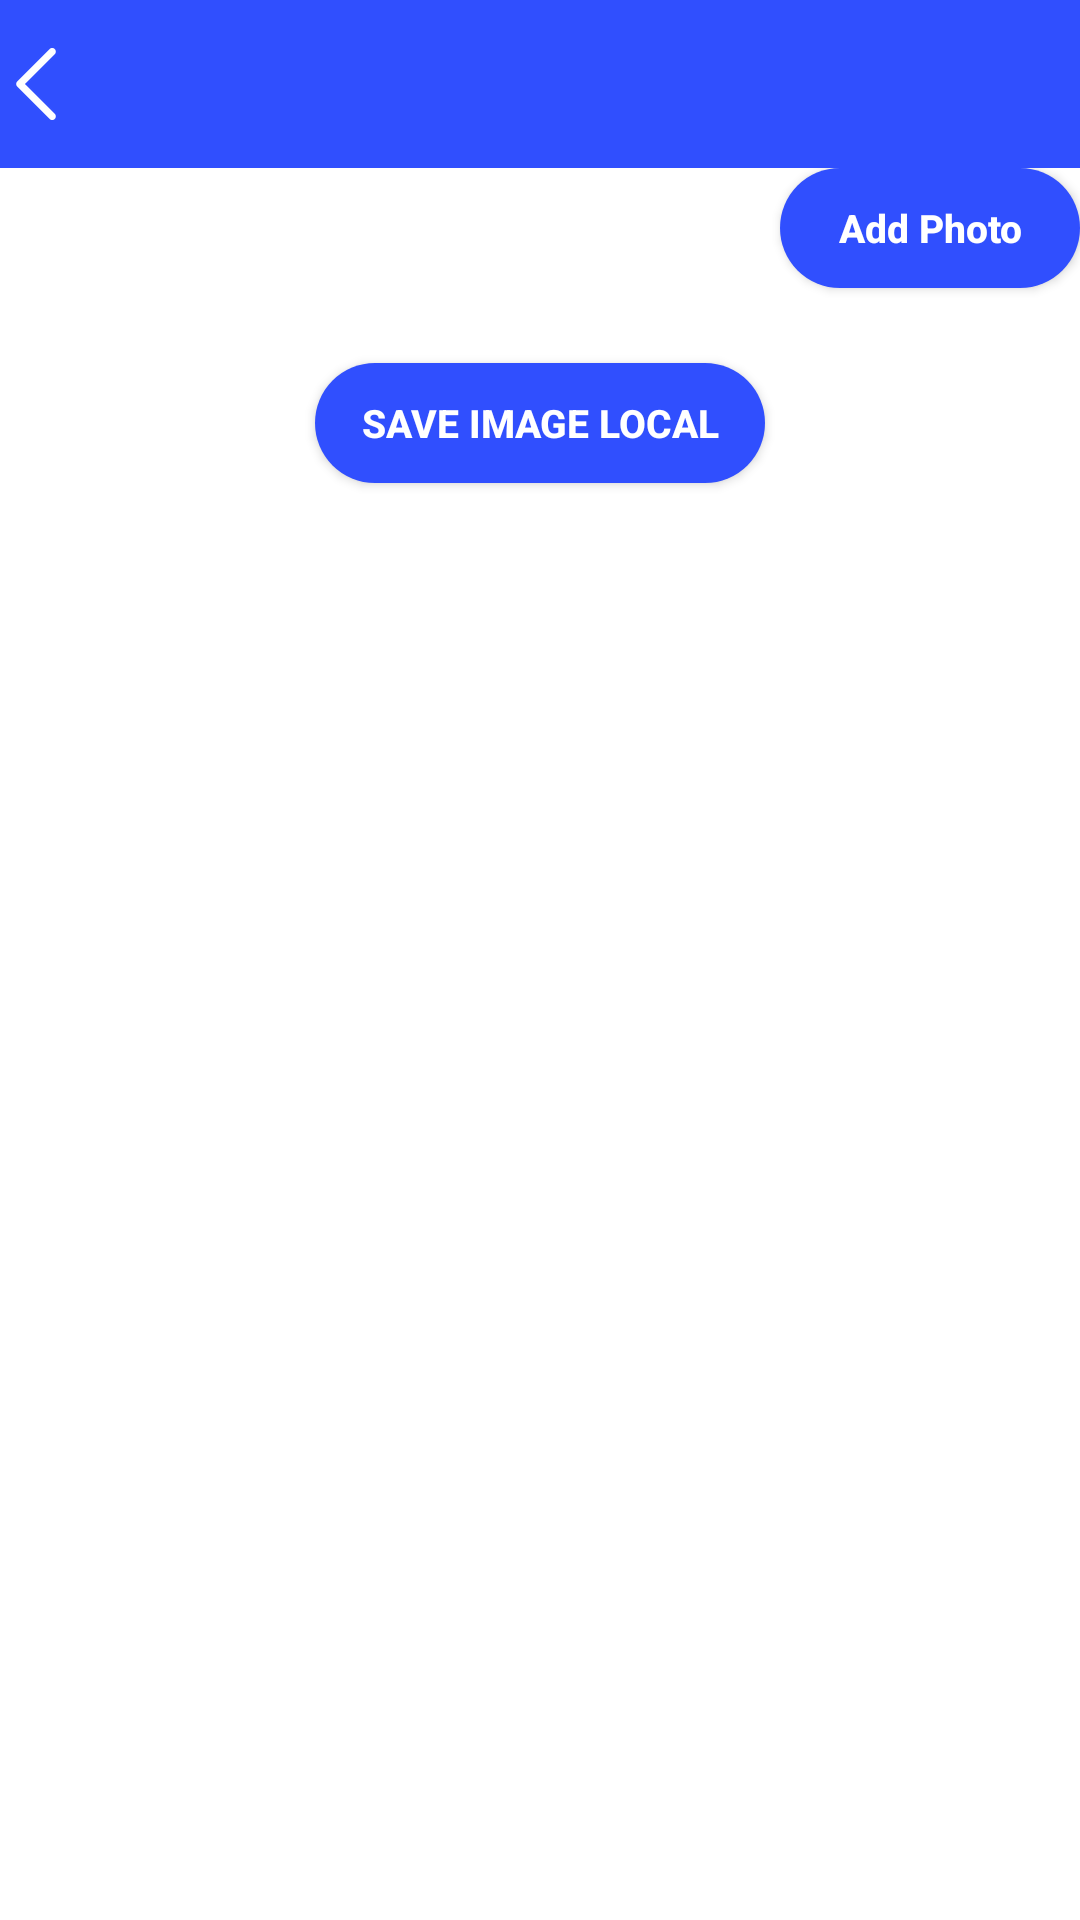

Where icons sit on this 1080x1920 app screen, as (x1, y1, x2, y2):
back: (16, 48, 56, 120)
